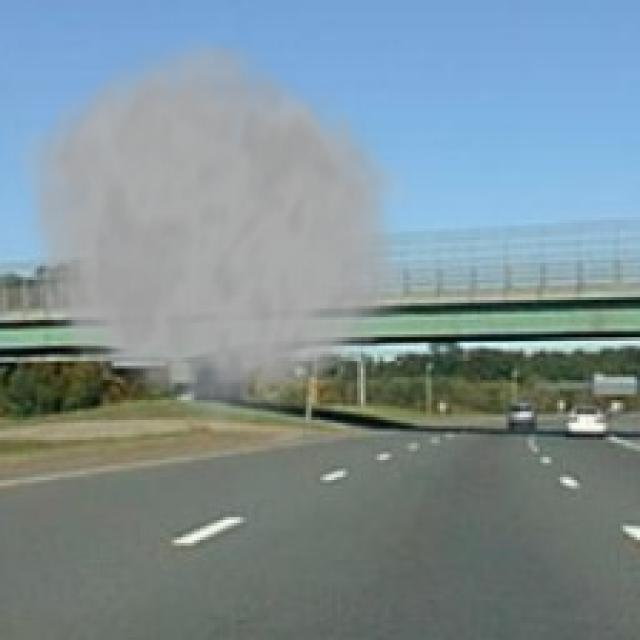Smoke: (2, 26, 412, 443)
